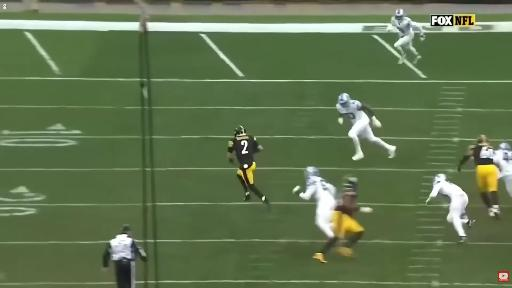Helmet: (343, 174, 361, 187), (338, 93, 352, 107), (475, 135, 490, 148), (234, 124, 248, 137), (305, 167, 319, 177), (436, 174, 447, 183), (500, 142, 511, 151), (395, 8, 402, 21)
Jersey: (299, 176, 336, 203), (228, 135, 258, 166), (337, 100, 369, 123), (430, 181, 466, 199), (391, 17, 418, 37), (335, 195, 359, 217), (470, 144, 494, 165), (494, 150, 511, 177), (343, 188, 357, 205)
Player: (314, 178, 372, 262), (337, 94, 396, 160), (458, 135, 500, 218), (426, 174, 474, 242), (228, 126, 269, 204), (299, 167, 336, 238), (388, 9, 424, 63), (494, 143, 511, 196)
